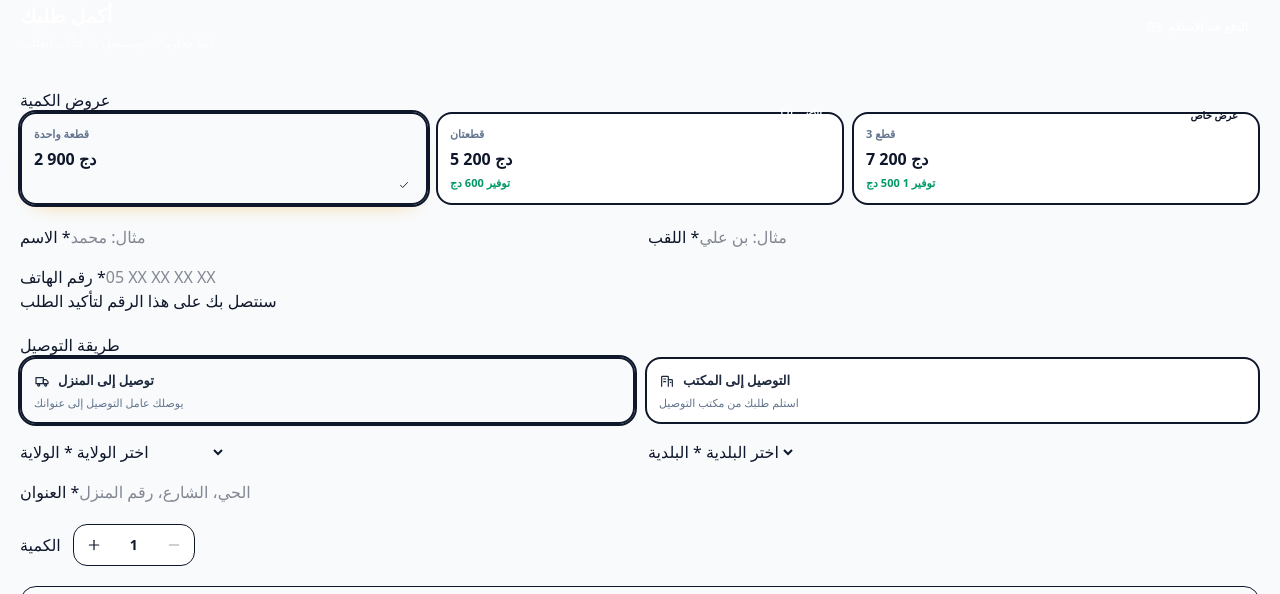
SOUQ — COD form interactions › applies a quantity pack to the order and to the summary
The image size is (1280, 594).
Select "16 - الجزائر" in the dropdown labelled "الولاية *" at [149, 452], box [73, 440, 226, 464]
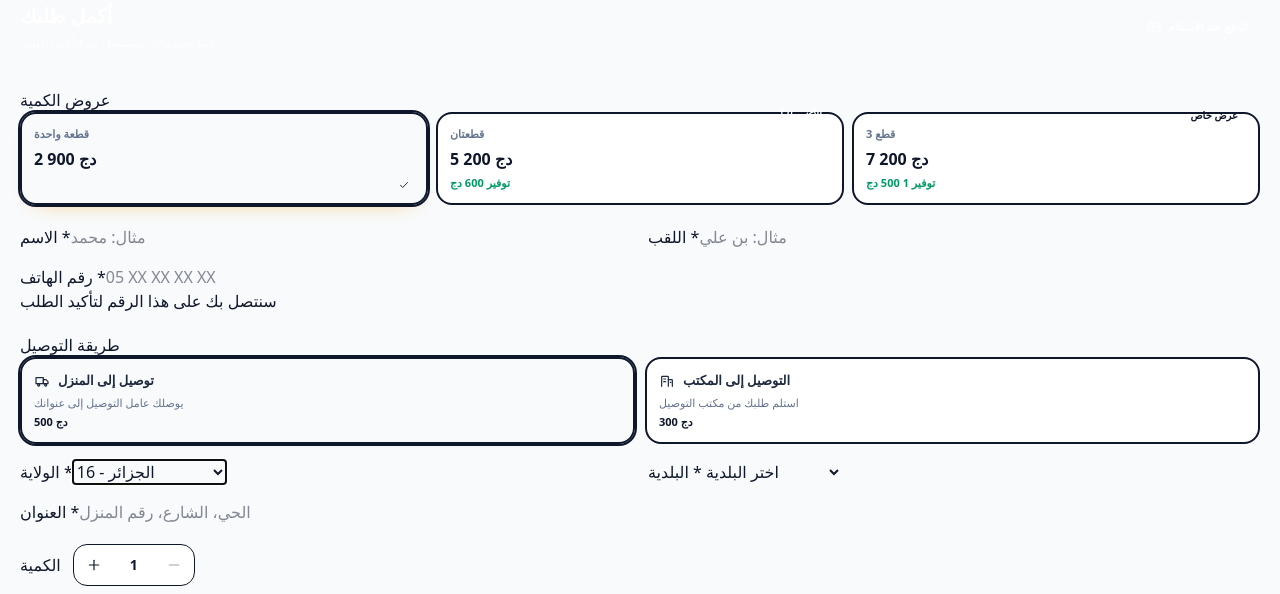
Click the button "الأكثر طلباً قطعتان 5 200 دج توفير 600 دج" at [801, 115], box [436, 112, 844, 205]
(page scrolled)
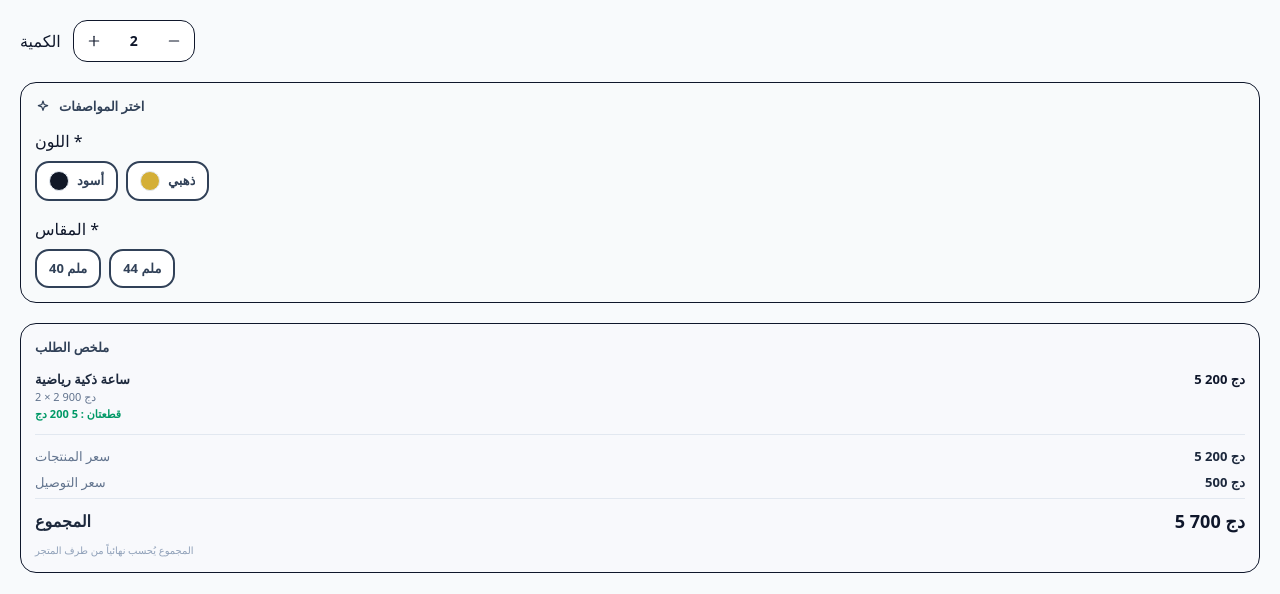
Result: the element showing "سعر المنتجات 5 200 دج سعر التوصيل 500 دج المجموع 5 700 دج" is shown at [35, 434, 1245, 535]
